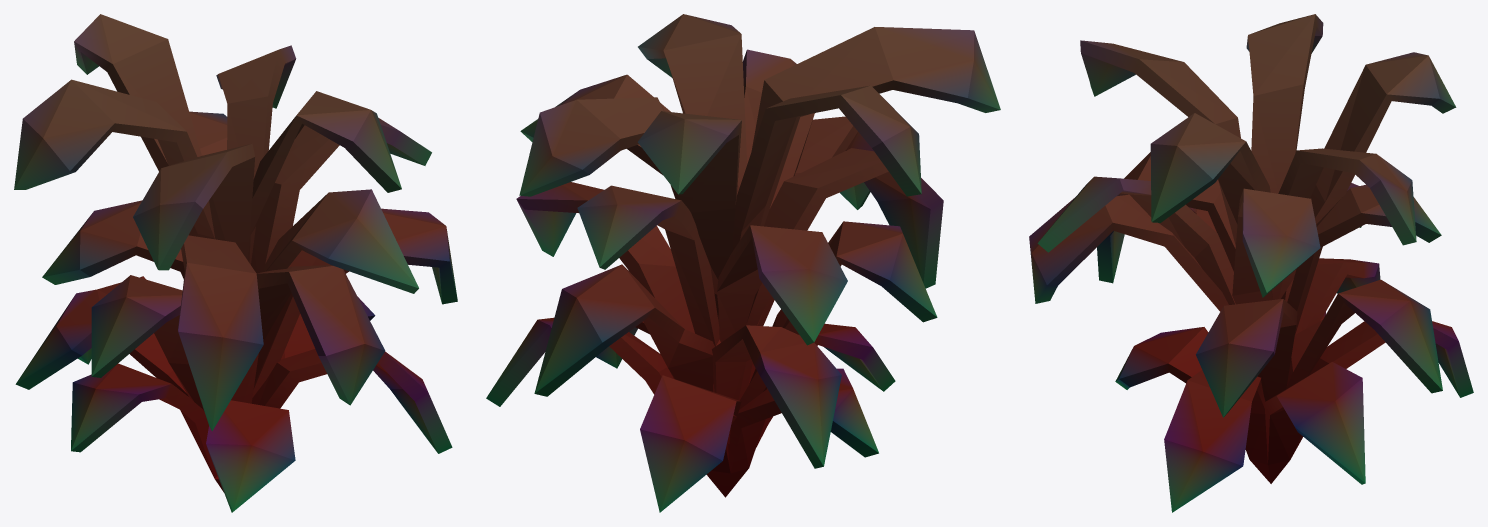
Rendered from synty-plant-06.gltf.
The picture shows the model from 3 angles, left to right: view 1: azimuth 30°, elevation 25°; view 2: azimuth 150°, elevation 25°; view 3: azimuth 270°, elevation 25°; orthographic projection. The views are drawn at different scales.
Parts seen in each view (by area): view 1: SM_Plant_06; view 2: SM_Plant_06; view 3: SM_Plant_06.
Boxes of the visible parts, left/top/right/bottom form: SM_Plant_06: left=14, top=14, right=457, bottom=512; SM_Plant_06: left=486, top=14, right=1000, bottom=512; SM_Plant_06: left=1029, top=14, right=1473, bottom=512.
Size of the model in its own units: 1.05 by 1.09 by 1.07.
Materials: 1 (1 with a texture image).
